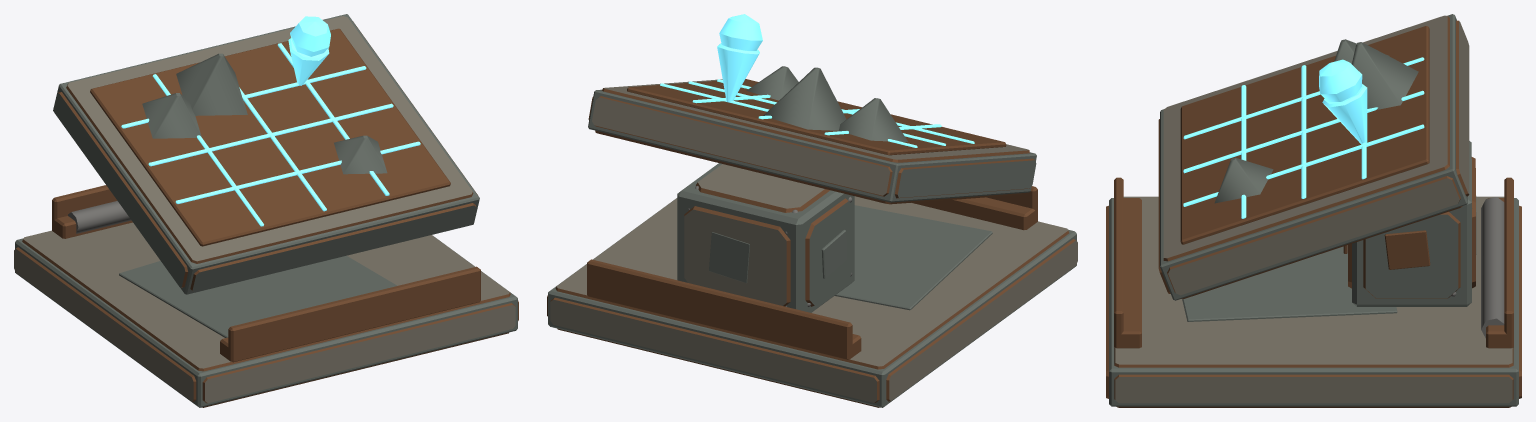
Rendered from R4X_Minimap.fbx.
3 views of the same model, side by side, from view 1: azimuth 30°, elevation 25°; view 2: azimuth 150°, elevation 25°; view 3: azimuth 270°, elevation 25° (orthographic). The views are drawn at different scales.
Visible parts, largest first — view 1: R4X_Minimap_Body; view 2: R4X_Minimap_Body; view 3: R4X_Minimap_Body.
Boxes of the visible parts, x1,y1,x2,y2 form: R4X_Minimap_Body: (14, 14, 518, 407); R4X_Minimap_Body: (547, 14, 1077, 407); R4X_Minimap_Body: (1106, 14, 1521, 407).
Size of the model in its own units: 0.52 by 0.403 by 0.52.
